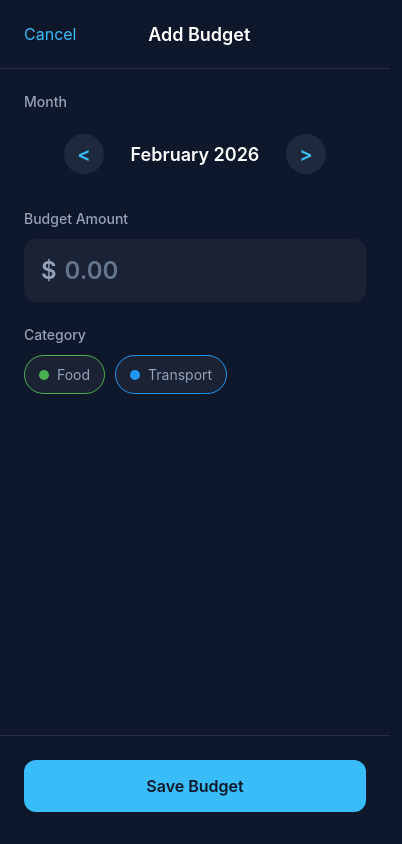
AddBudgetScreen › Form Validation › shows error when submitting without amount
The width and height of the screenshot is (402, 844).
What coordinates should you click on to do the following:
click the button with aria-label "Select Food category"
I would click on:
 (65, 374)
Its box is x1=24 y1=355 x2=105 y2=394.
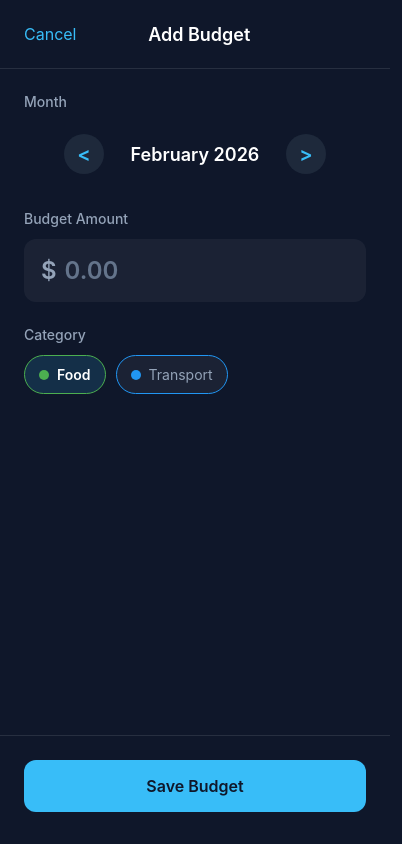
What coordinates should you click on to do the following:
click the button "Save Budget"
I would click on:
 (195, 786)
Its box is x1=24 y1=760 x2=366 y2=812.
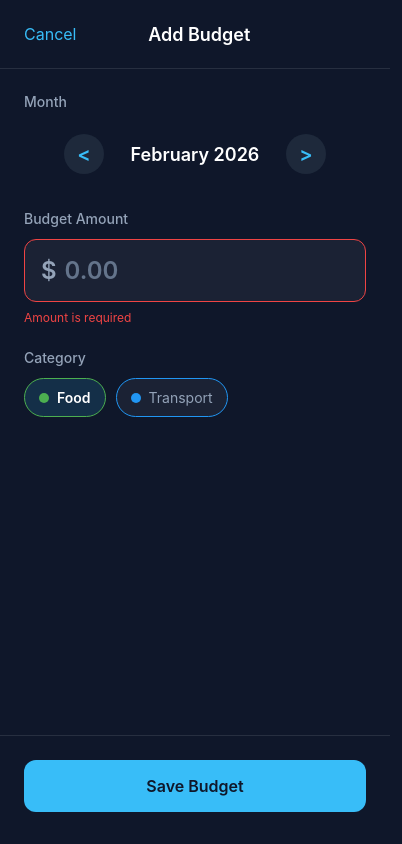
Result: the text "Amount is required" is shown at x1=24 y1=310 x2=131 y2=325
